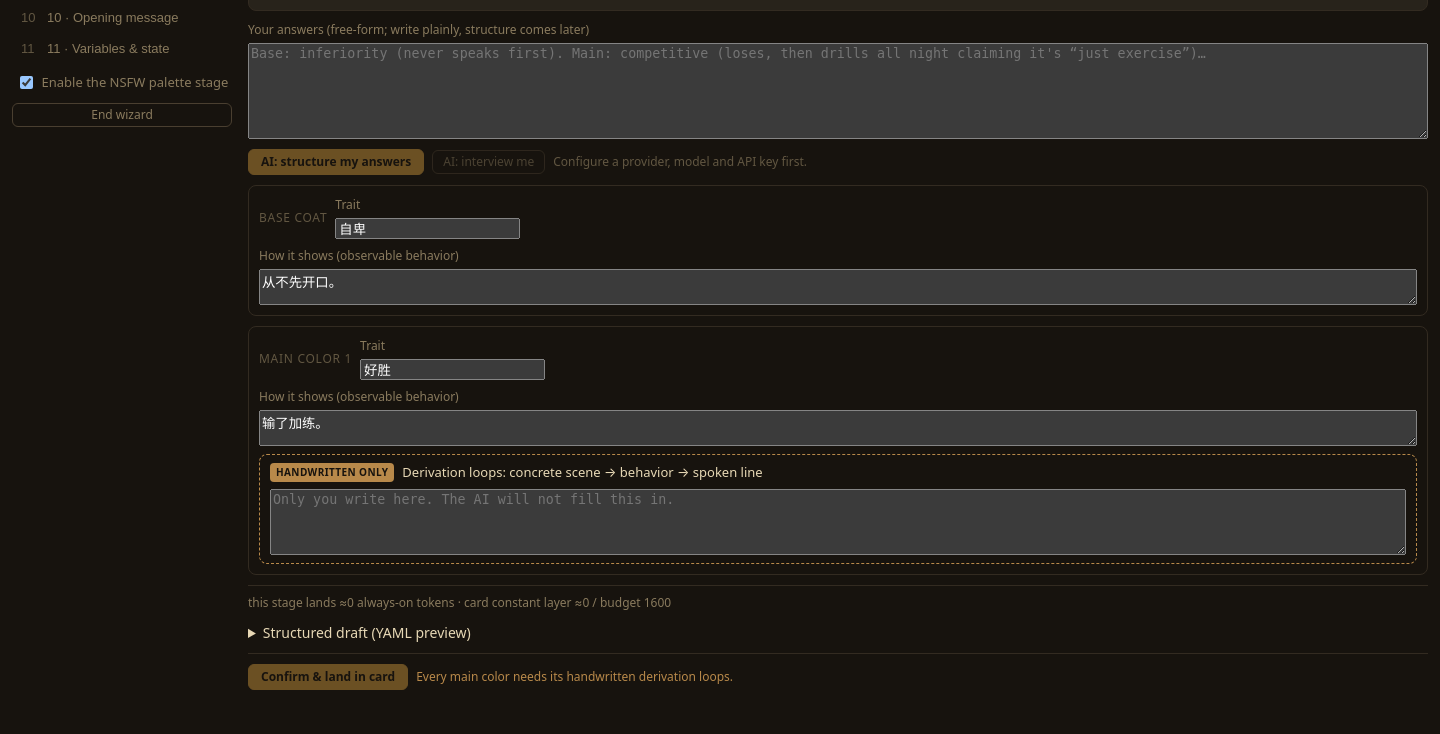
Scenario: WizardView › blocks the palette confirm until the derivation is handwritten
(page scrolled)
expect the text "HANDWRITTEN ONLY" is shown: met, box [270,463,394,482]
expect the button "Confirm & land in card" is disabled: met, box [248,664,408,690]
Type "码头输了,当晚加练。" into the text box with placeholder "Only you write here. The AI will not fill this in." at [838, 522], box [270,488,1406,554]
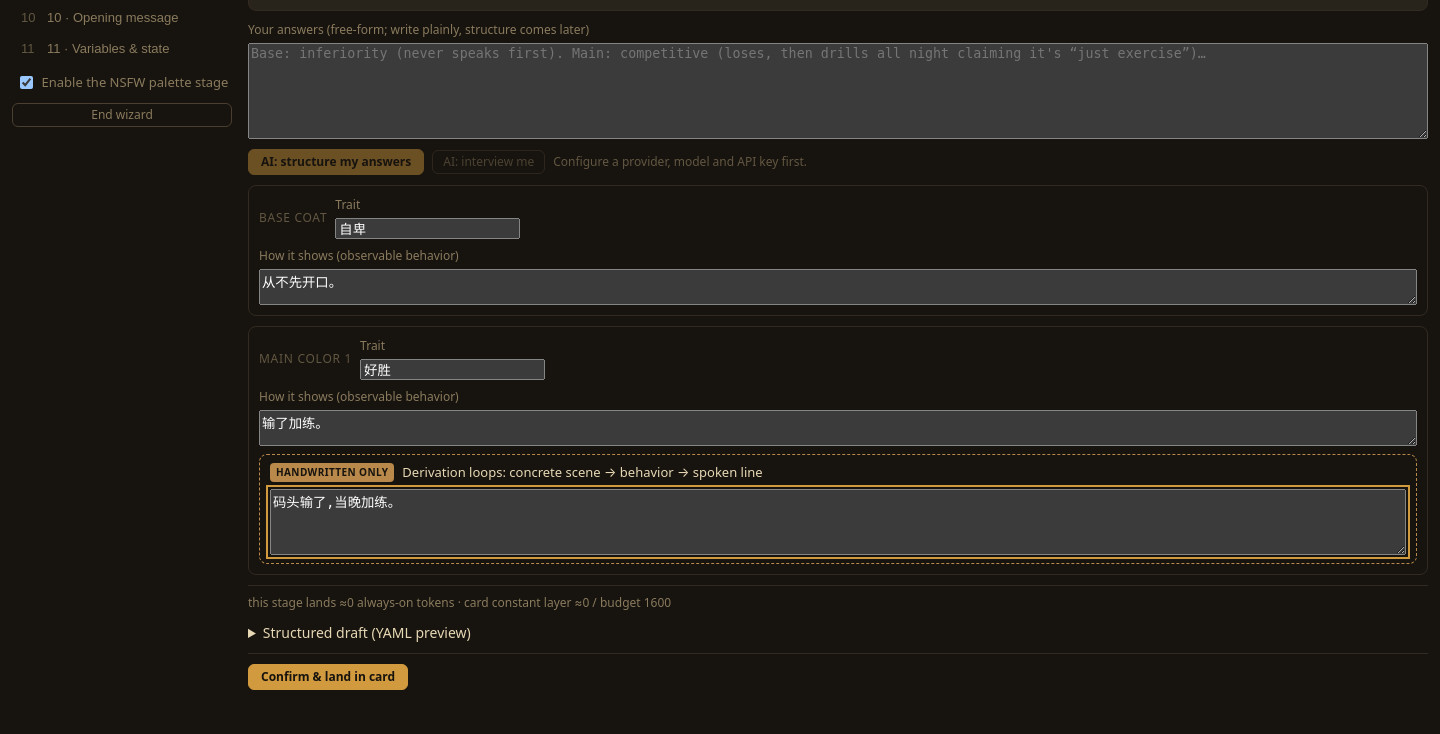
expect the button "Confirm & land in card" is enabled: met, box [248,664,408,690]
